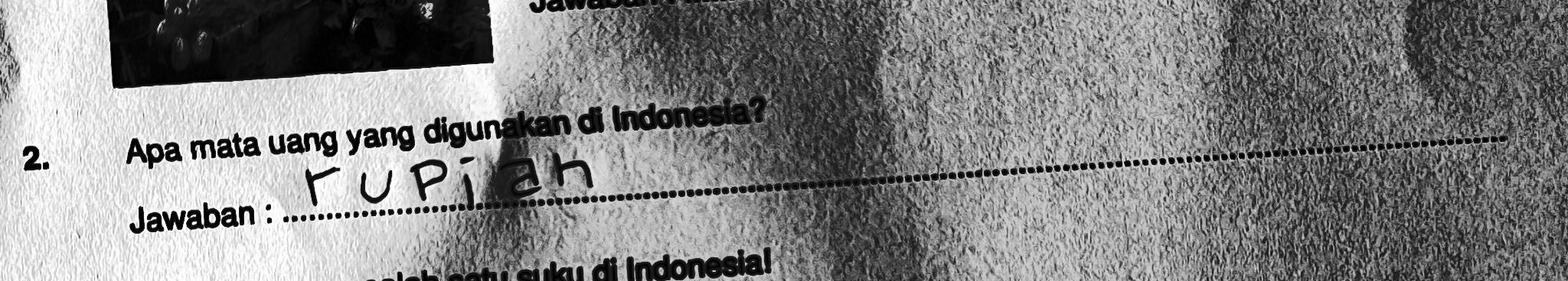jawaban: (294, 144, 599, 211)
